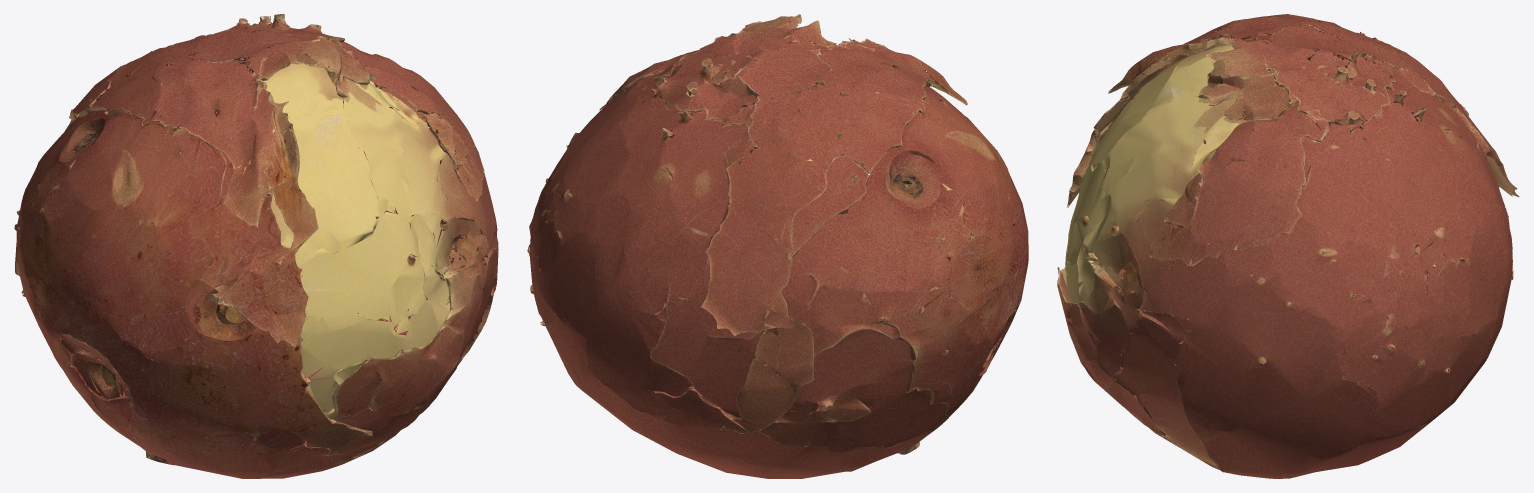
The model's file is potato.glb.
3 renders of one model, left to right at view 1: azimuth 30°, elevation 25°; view 2: azimuth 150°, elevation 25°; view 3: azimuth 270°, elevation 25°, orthographic.
Parts seen in each view (by area): view 1: potato; view 2: potato; view 3: potato.
Part boxes in pixels (bbox=[...]): potato: bbox=[14, 14, 498, 478]; potato: bbox=[527, 14, 1028, 478]; potato: bbox=[1057, 14, 1519, 478].
Bounding box in the file's own units: 1 × 0.921 × 0.9341.
1 material, 1 textured.
